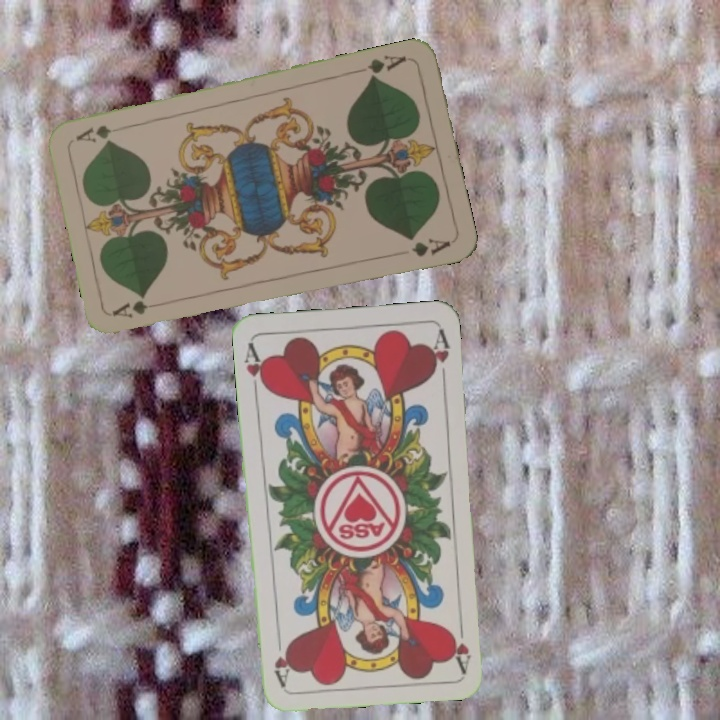GA: (109, 296, 168, 321), (363, 51, 409, 83)
HA: (240, 339, 270, 398), (447, 614, 474, 674)
